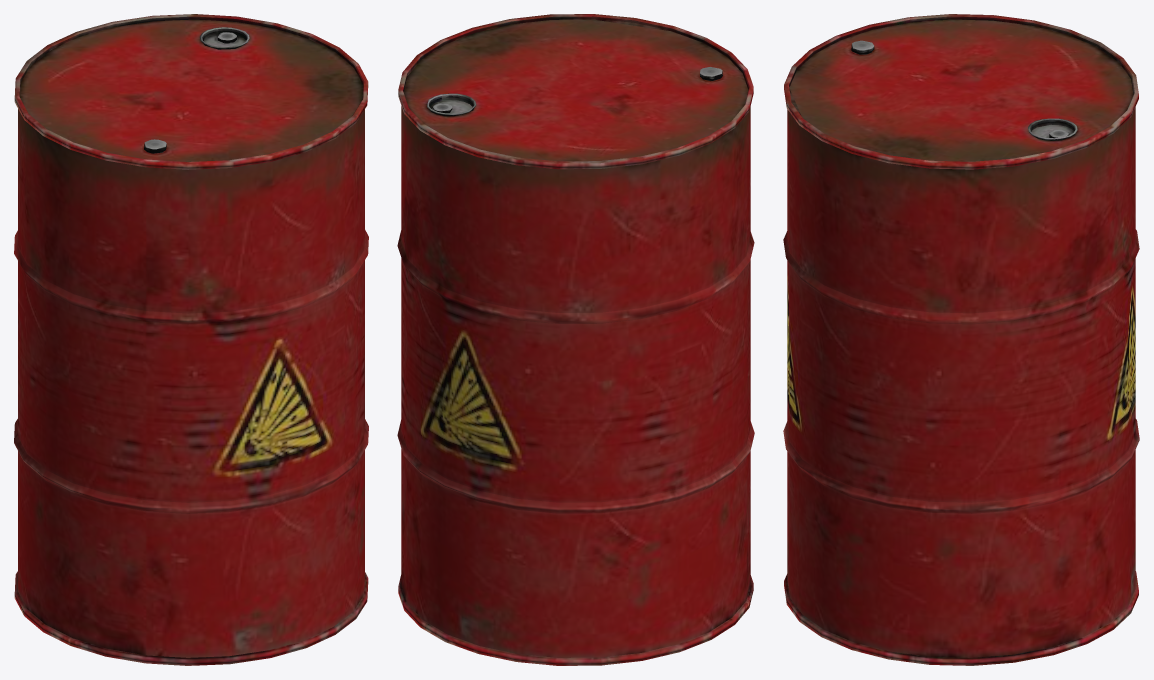
File: barrel_a-BhrXVqXo.glb
The picture shows the model from 3 angles, left to right: view 1: azimuth 30°, elevation 25°; view 2: azimuth 150°, elevation 25°; view 3: azimuth 270°, elevation 25°; orthographic projection.
Parts seen in each view (by area): view 1: Barrel_01; view 2: Barrel_01; view 3: Barrel_01.
Part boxes in pixels (<box>): Barrel_01: <box>14,14,368,665</box>; Barrel_01: <box>397,14,754,665</box>; Barrel_01: <box>783,14,1139,665</box>.
Size of the model in its own units: 0.5627 by 0.8789 by 0.5627.
1 material, 1 textured.
